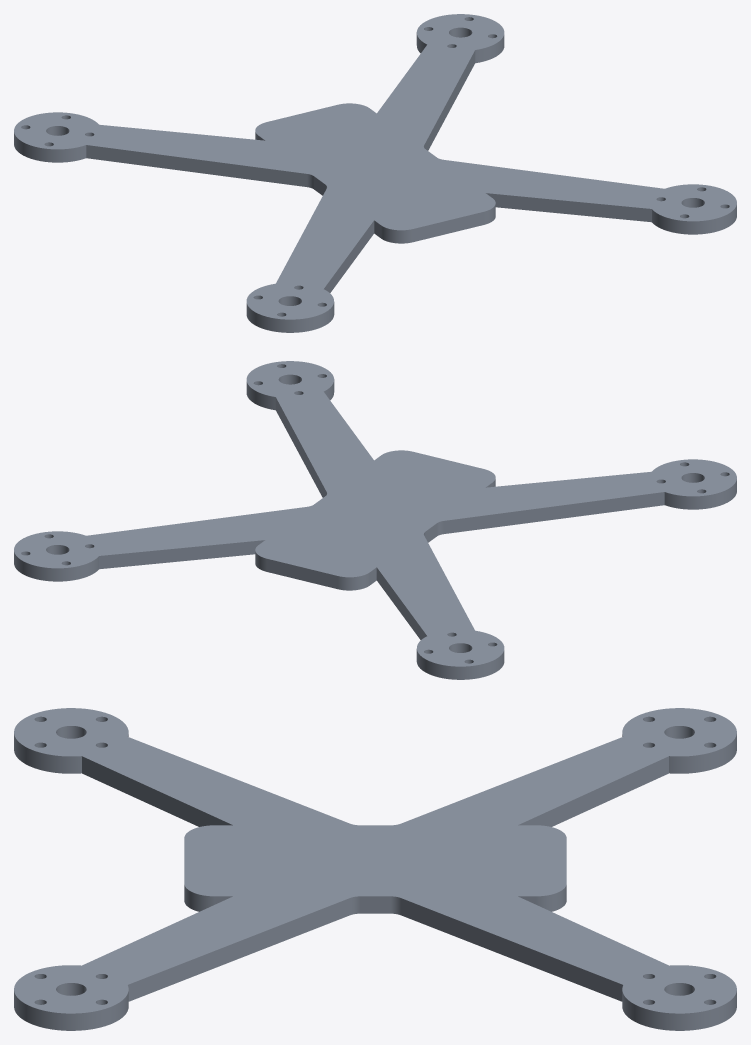
File: step-2-preview-1.glb
3 views of the same model, one above another, from view 1: azimuth 30°, elevation 25°; view 2: azimuth 150°, elevation 25°; view 3: azimuth 270°, elevation 25° (orthographic). The views are drawn at different scales.
Parts seen in each view (by area): view 1: preview_4, preview_16, preview_11, preview_6, preview_13, preview_18, preview_5, preview_23, preview_2, preview_25; view 2: preview_4, preview_8, preview_27, preview_18, preview_25, preview_6, preview_26, preview_15, preview_20, preview_13; view 3: preview_4, preview_15, preview_23, preview_2, preview_20, preview_13, preview_25, preview_6, preview_18, preview_19.
Boxes of the visible parts, left/top/right/bottom form: preview_4: left=14, top=14, right=736, bottom=319; preview_16: left=86, top=145, right=307, bottom=186; preview_11: left=486, top=193, right=651, bottom=222; preview_6: left=246, top=302, right=334, bottom=332; preview_13: left=652, top=205, right=736, bottom=234; preview_18: left=14, top=132, right=86, bottom=162; preview_5: left=413, top=212, right=483, bottom=242; preview_23: left=424, top=50, right=475, bottom=150; preview_2: left=324, top=220, right=374, bottom=292; preview_25: left=416, top=32, right=504, bottom=63; preview_4: left=14, top=361, right=736, bottom=666; preview_8: left=443, top=492, right=664, bottom=533; preview_27: left=99, top=540, right=264, bottom=569; preview_18: left=416, top=649, right=504, bottom=679; preview_25: left=14, top=552, right=98, bottom=581; preview_6: left=664, top=479, right=736, bottom=509; preview_26: left=267, top=559, right=337, bottom=589; preview_15: left=275, top=397, right=326, bottom=497; preview_20: left=376, top=567, right=426, bottom=639; preview_13: left=246, top=379, right=334, bottom=410; preview_4: left=14, top=708, right=736, bottom=1013; preview_15: left=128, top=898, right=349, bottom=1001; preview_23: left=401, top=898, right=622, bottom=1001; preview_2: left=82, top=756, right=232, bottom=826; preview_20: left=518, top=756, right=668, bottom=826; preview_13: left=14, top=991, right=128, bottom=1030; preview_25: left=622, top=991, right=736, bottom=1030; preview_6: left=14, top=734, right=128, bottom=773; preview_18: left=622, top=734, right=736, bottom=773; preview_19: left=360, top=896, right=390, bottom=913.
Bounding box in the file's own units: 0.1891 × 0.005 × 0.1891.
